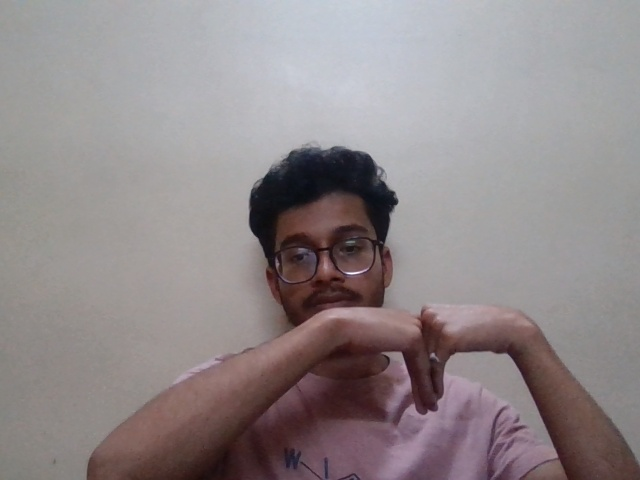yesterday: (288, 283, 558, 406)
